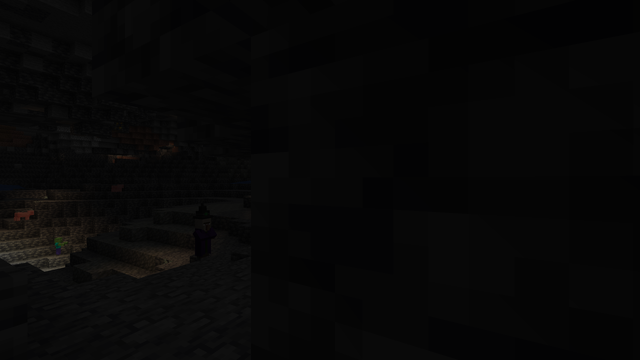cochons: (15, 211, 28, 220), (111, 185, 121, 191)
sorcieres: (192, 215, 212, 260)
zombies: (54, 237, 63, 255)
